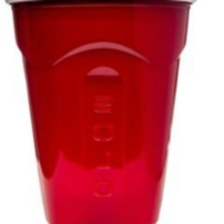glass: (0, 0, 198, 224)
